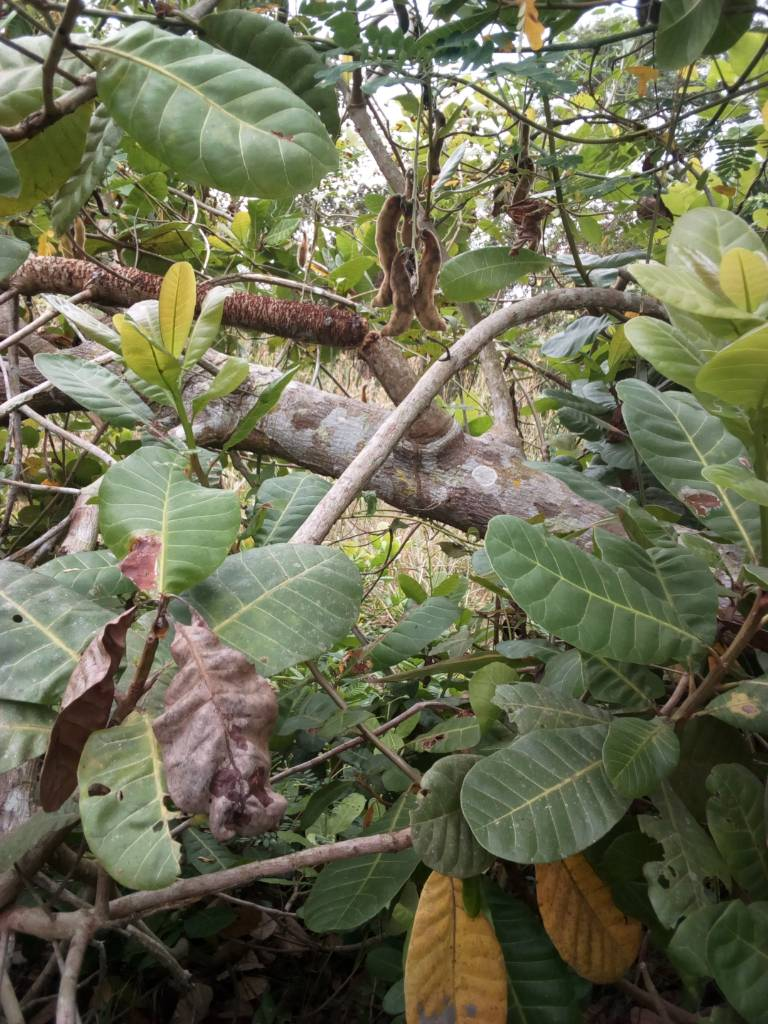Dessèchement des bourgeons: (33, 588, 166, 810)
